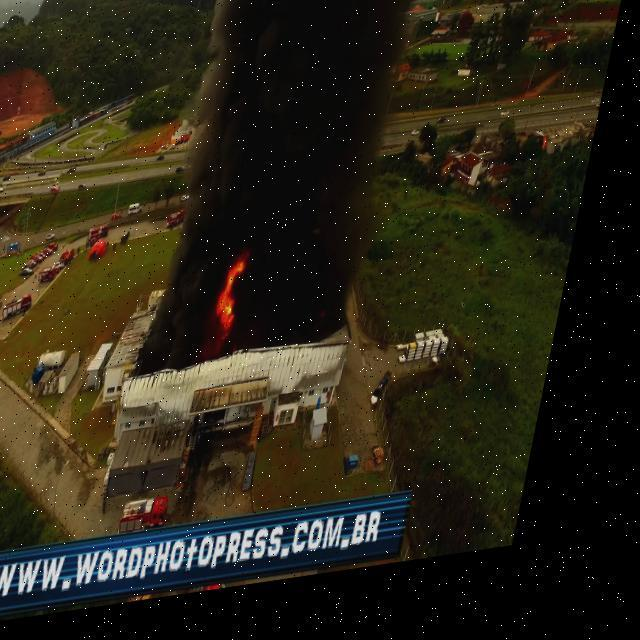Fire: (225, 256, 265, 348)
